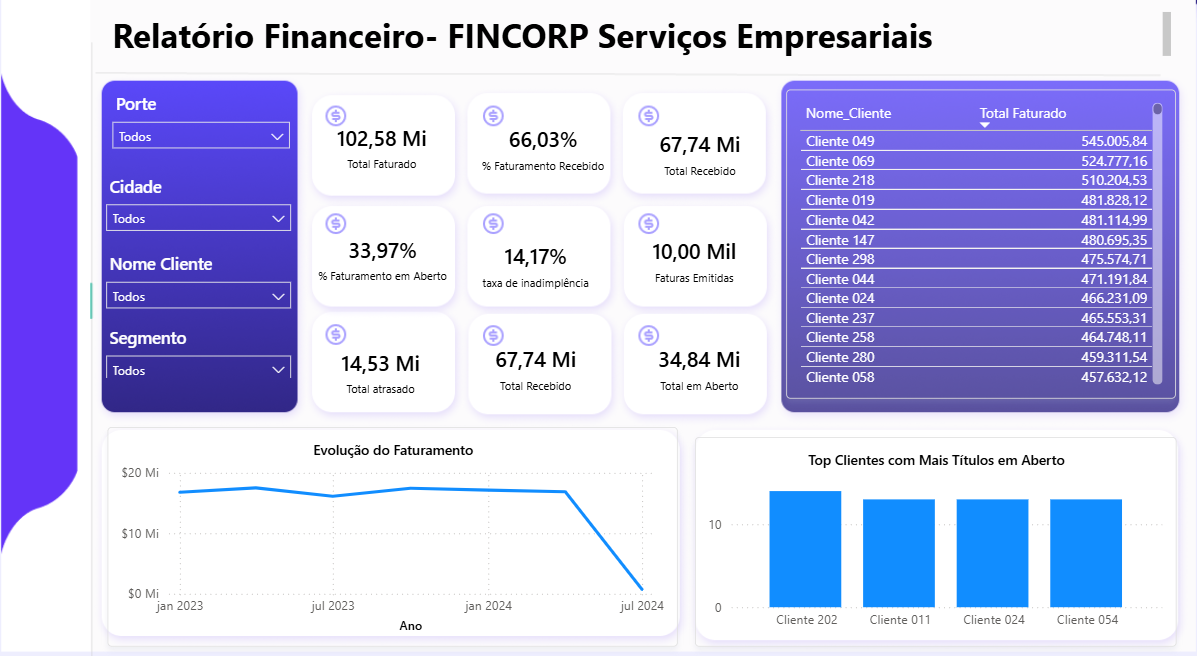

This screenshot's page, from the dashboard's own definition file:
{"tool":"powerbi","page":{"name":"Página 1","canvas":[1280,720],"ordinal":0},"visuals":[{"type":"card","fields":{"Values":["Financeiro.Total Faturado"]},"box":[364.3,107.4,133.9,83.2],"z":0},{"type":"card","fields":{"Values":["Financeiro.Total em Aberto"]},"box":[668.4,322.1,138.7,82],"z":1000},{"type":"card","fields":{"Values":["Financeiro.Total Recebido"]},"box":[516.4,322.1,126.7,82],"z":2000},{"type":"card","fields":{"Values":["Financeiro.Total Recebido"]},"box":[680.4,109.8,115.8,91.7],"z":3000},{"type":"card","fields":{"Values":["Financeiro.Total atrasado"]},"box":[351.1,322.1,158,88.1],"z":4000},{"type":"card","fields":{"Values":["Financeiro.% Faturamento Recebido"]},"box":[465.7,107.4,242.5,86.9],"z":5000},{"type":"card","fields":{"Values":["Financeiro.% Faturamento em Aberto"]},"box":[354.7,218.4,154.4,78.4],"z":6000},{"type":"columnChart","title":"Top Clientes com Mais Títulos em Aberto","fields":{"Category":["Clientes.Nome_Cliente"],"Y":["CountNonNull(Financeiro.Status)"]},"box":[733.5,429.5,464.5,202.7],"z":7000},{"type":"tableEx","fields":{"Values":["Clientes.Nome_Cliente","Financeiro.Total Faturado"]},"box":[822,94,376,298],"z":8000},{"type":"slicer","fields":{"Values":["Clientes.Nome_Cliente"]},"box":[160.5,250.9,188.2,90.5],"z":9000},{"type":"card","fields":{"Values":["Financeiro.taxa de inadimplência"]},"box":[509.1,218.4,141.2,90.5],"z":10000},{"type":"slicer","fields":{"Values":["Clientes.Porte"]},"box":[166.5,96.5,181,200.3],"z":11000},{"type":"slicer","fields":{"Values":["Clientes.Segmento"]},"box":[160.5,322.1,188.2,50.7],"z":12000},{"type":"slicer","fields":{"Values":["Clientes.Cidade"]},"box":[160,176,188,64],"z":13000},{"type":"lineChart","title":"Evolução do Faturamento","fields":{"Y":["Sum(Financeiro.Valor_Fatura)"],"Category":["Financeiro.Data_Emissao.Variation.Hierarquia de datas.Ano","Financeiro.Data_Emissao.Variation.Hierarquia de datas.Trimestre","Financeiro.Data_Emissao.Variation.Hierarquia de datas.Mês","Financeiro.Data_Emissao.Variation.Hierarquia de datas.Dia"]},"box":[166.5,419.8,550.1,212.3],"z":14000},{"type":"textbox","box":[166.5,14.5,1031.5,60.3],"z":15000},{"type":"card","fields":{"Values":["Count(Financeiro.Numero_Fatura)"]},"box":[643,183.4,179.8,150.8],"z":16000}]}

Visuals, with their boxes in screenshot pixels (x1, y1, x2, y2), scaled from the page's 1280x720 canvas onto the 1197x656 screenshot:
card - Financeiro.Total Faturado: (341, 98, 466, 174)
card - Financeiro.Total em Aberto: (625, 293, 755, 368)
card - Financeiro.Total Recebido: (483, 293, 601, 368)
card - Financeiro.Total Recebido: (636, 100, 745, 184)
card - Financeiro.Total atrasado: (328, 293, 476, 374)
card - Financeiro.% Faturamento Recebido: (436, 98, 662, 177)
card - Financeiro.% Faturamento em Aberto: (332, 199, 476, 270)
"Top Clientes com Mais Títulos em Aberto" columnChart: (686, 391, 1120, 576)
tableEx - Clientes.Nome_Cliente x Financeiro.Total Faturado: (769, 86, 1120, 357)
slicer - Clientes.Nome_Cliente: (150, 229, 326, 311)
card - Financeiro.taxa de inadimplência: (476, 199, 608, 281)
slicer - Clientes.Porte: (156, 88, 325, 270)
slicer - Clientes.Segmento: (150, 293, 326, 340)
slicer - Clientes.Cidade: (150, 160, 325, 219)
"Evolução do Faturamento" lineChart: (156, 382, 670, 576)
textbox: (156, 13, 1120, 68)
card - Count(Financeiro.Numero_Fatura): (601, 167, 769, 304)
